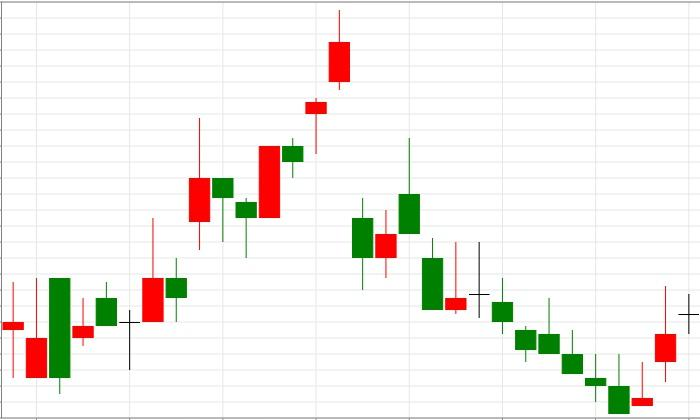hanging_man_fall: (49, 118, 234, 393)
